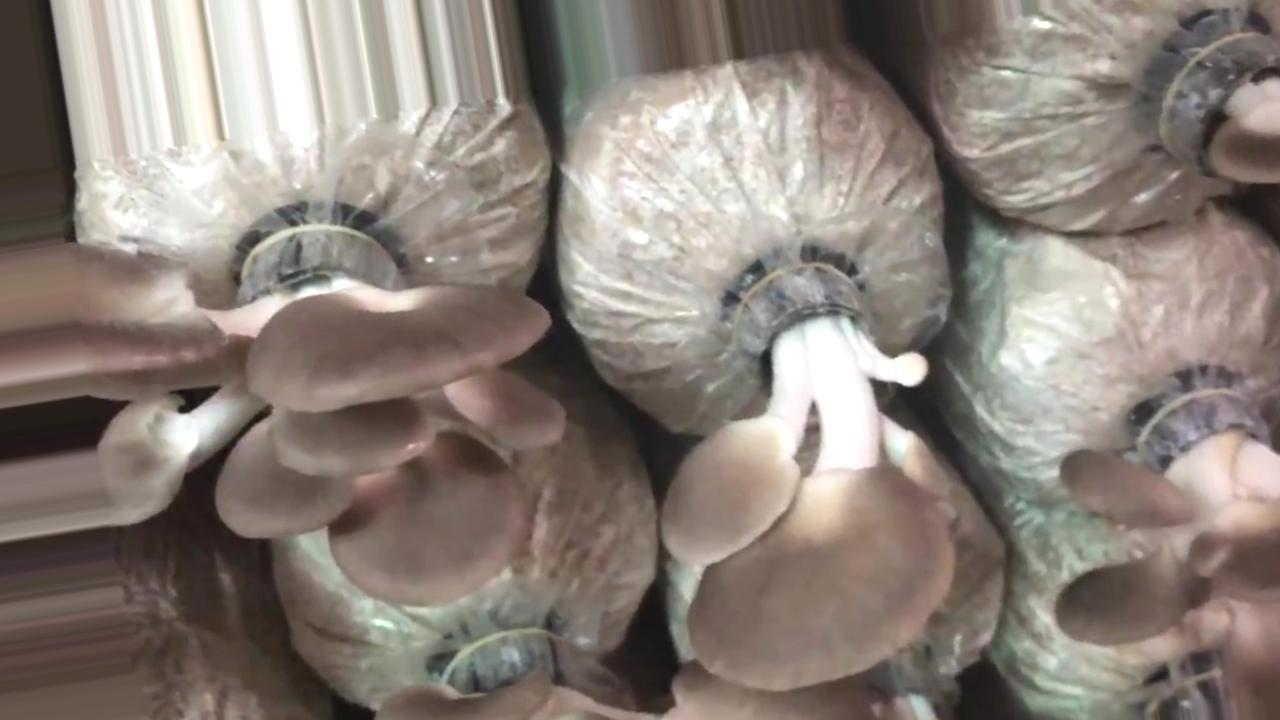nam: (1, 216, 568, 608), (660, 249, 964, 691), (1053, 417, 1277, 720), (1153, 6, 1280, 206)
